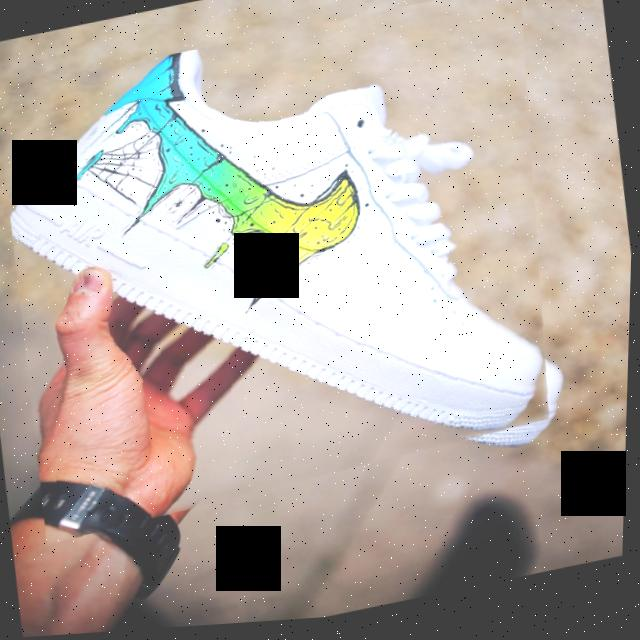shoe: (0, 0, 586, 550)
